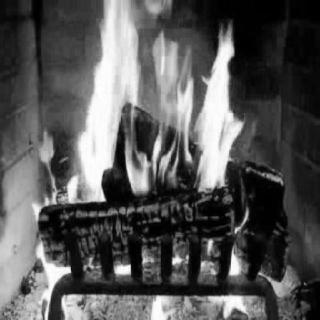Fire: (1, 0, 302, 308)
